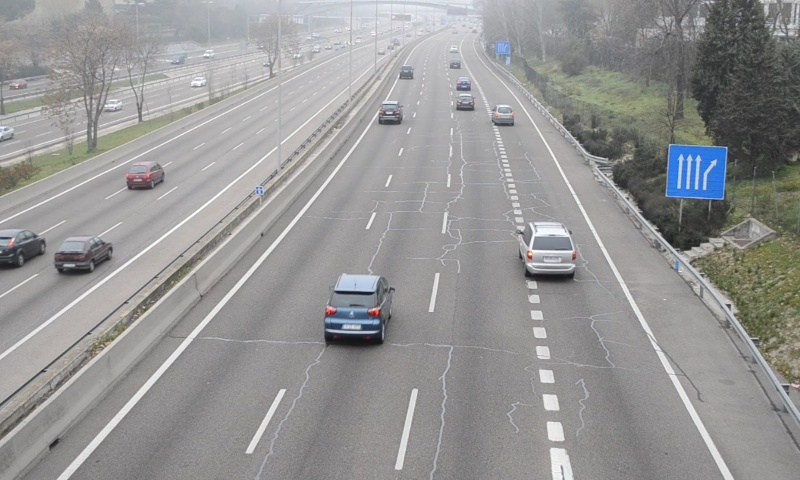car: (324, 275, 392, 340), (519, 221, 576, 276), (378, 101, 402, 126), (491, 103, 515, 126), (455, 92, 475, 112)
